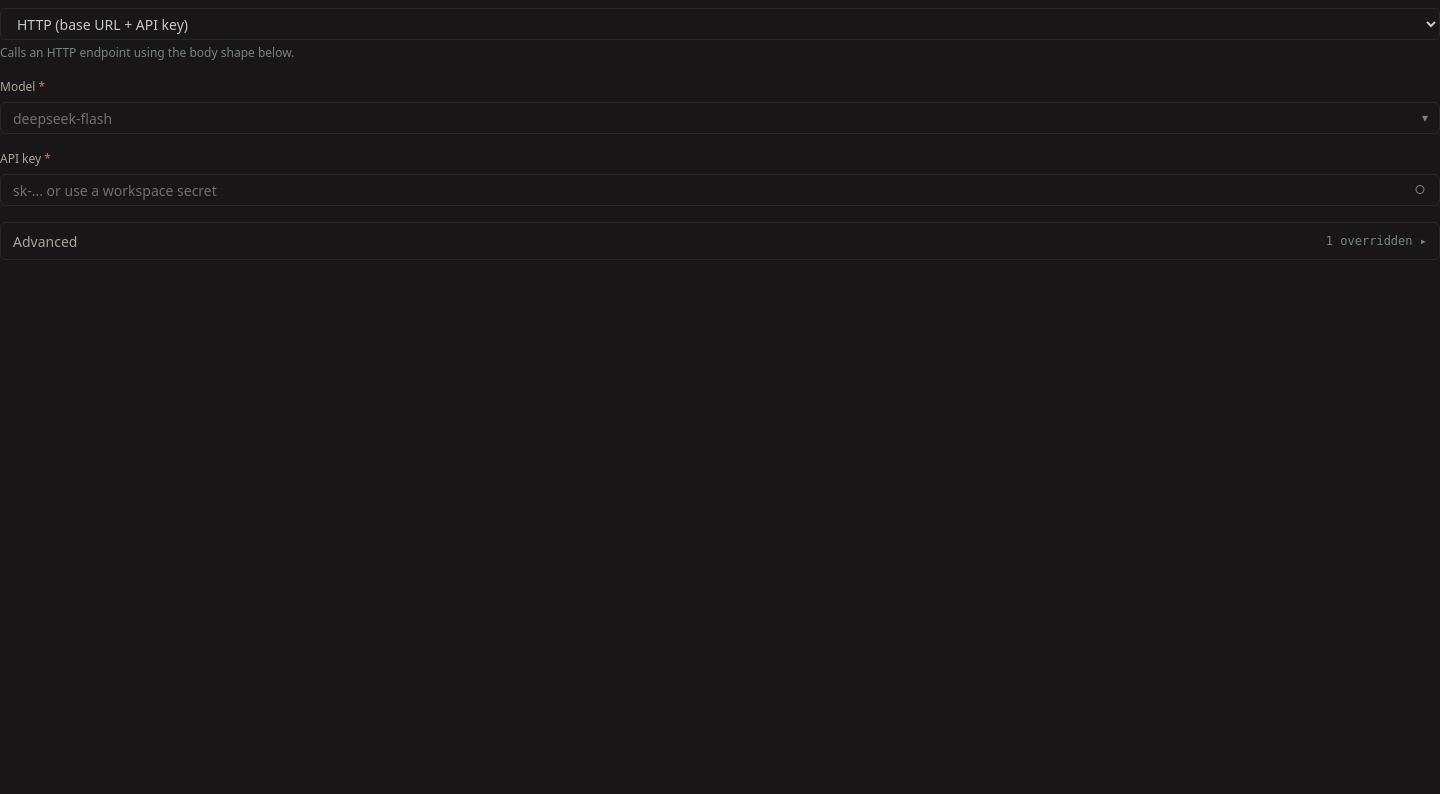
LlmConfigForm › an existing context-window override round-trips into the field
What coordinates should you click on to do the following:
click the button with test id "advanced-toggle"
I would click on:
 (45, 241)
Its box is [1,223,1439,259].
(page scrolled)
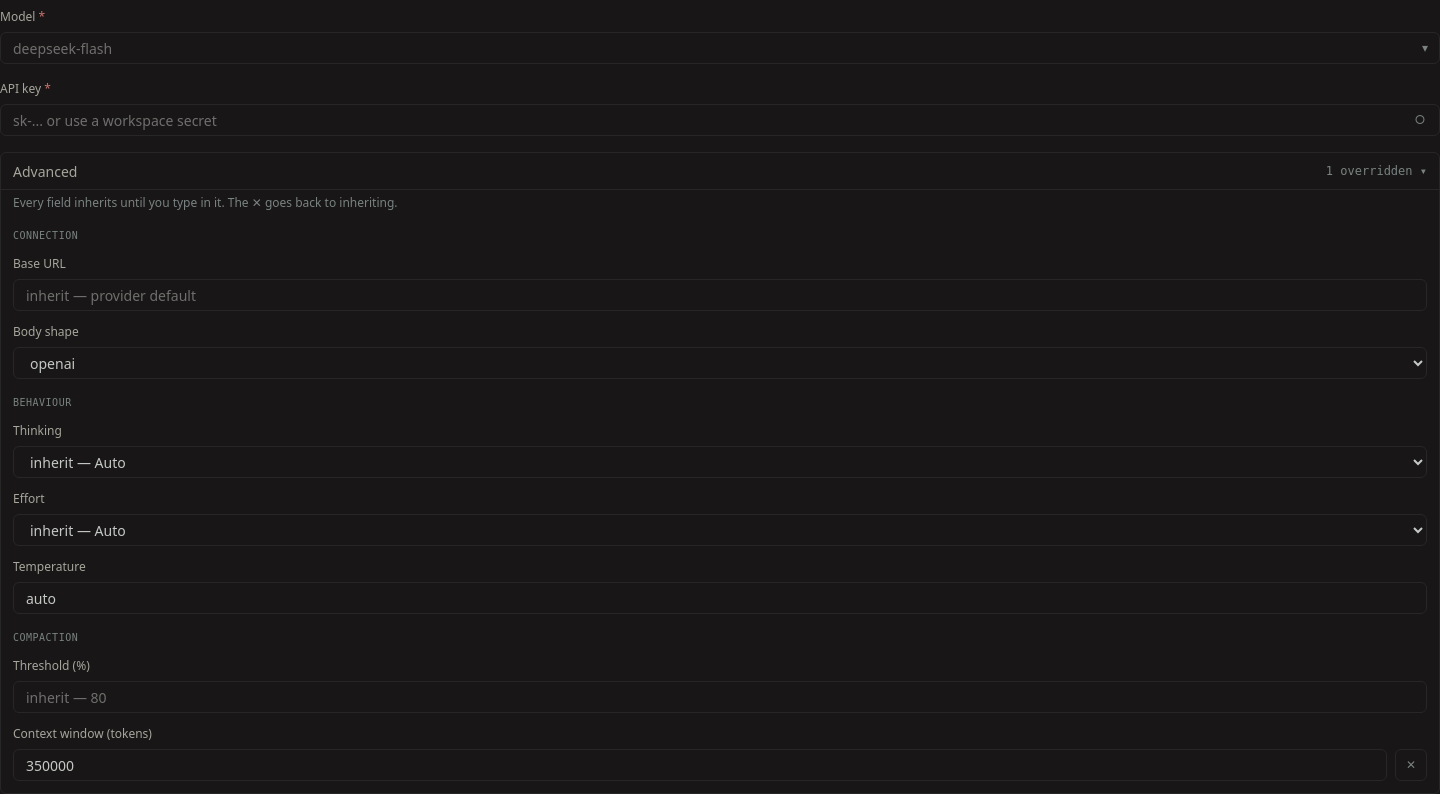
expect the number field with test id "agent-capacity-input" holds "350000": met, box [13,749,1387,781]
